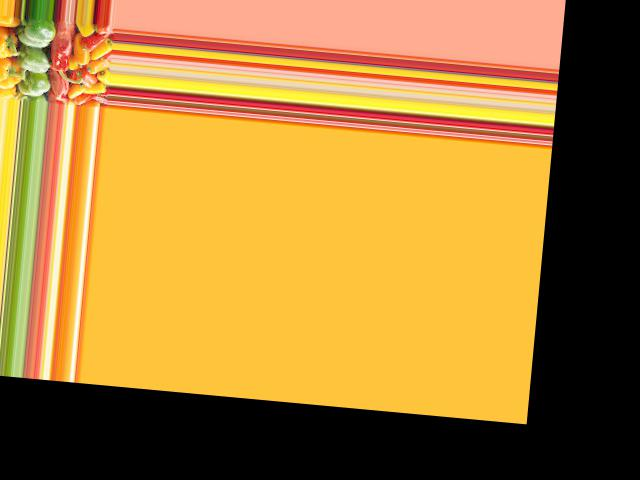bell_pepper: (80, 29, 109, 54)
